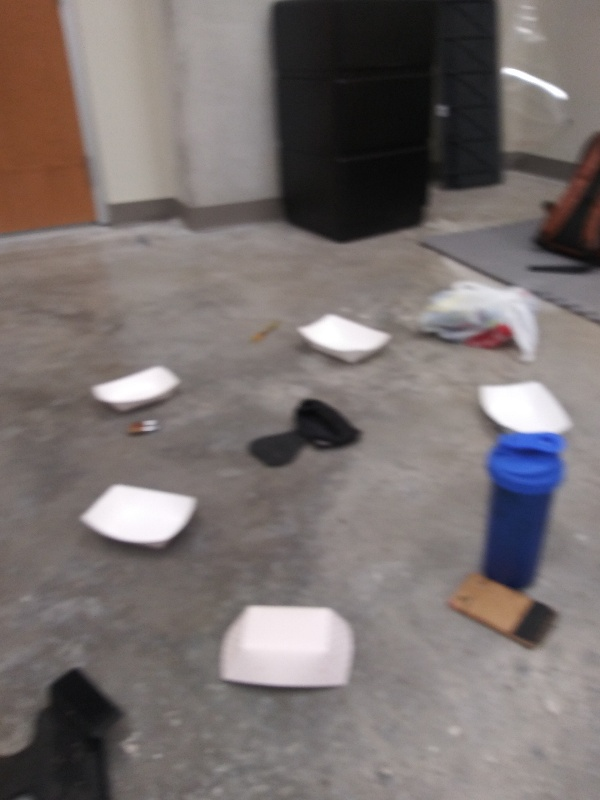plate: (214, 602, 356, 693), (77, 481, 201, 559), (471, 378, 575, 440), (294, 311, 397, 369), (87, 364, 184, 420)
